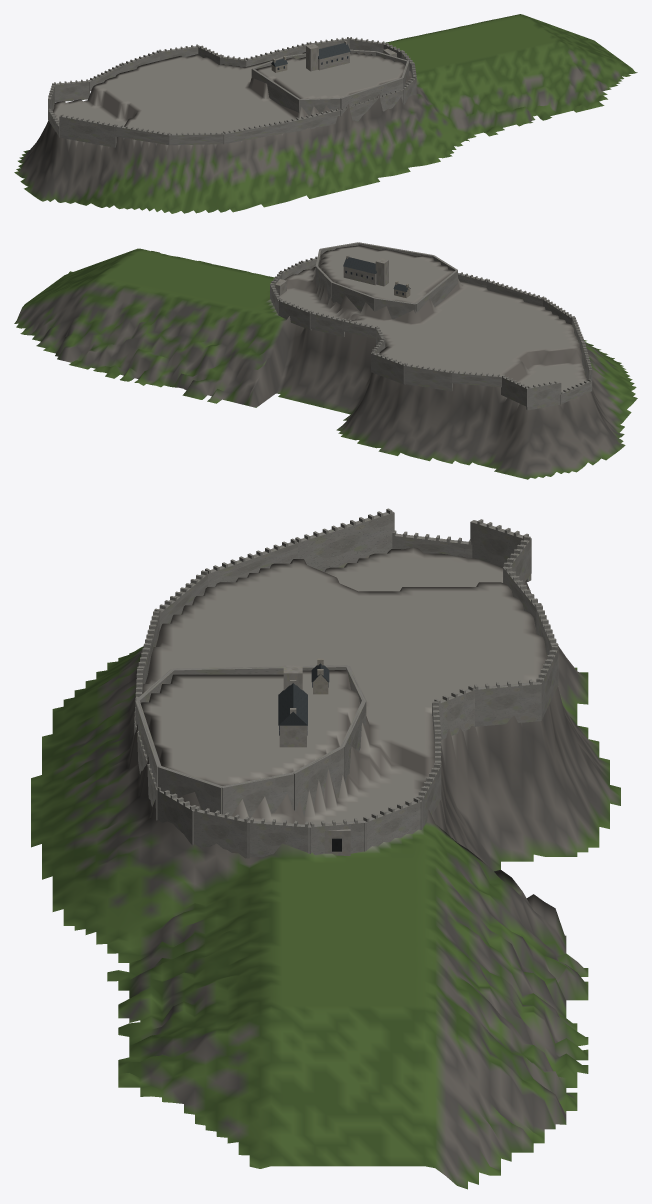
The model's file is edinburgh-castle-b25.glb.
3 views of the same model, one above another, from view 1: azimuth 30°, elevation 25°; view 2: azimuth 150°, elevation 25°; view 3: azimuth 270°, elevation 25° (orthographic). The views are drawn at different scales.
Bounding box in the file's own units: 48 × 8.6 × 21.6.
8 materials, 6 textured.
